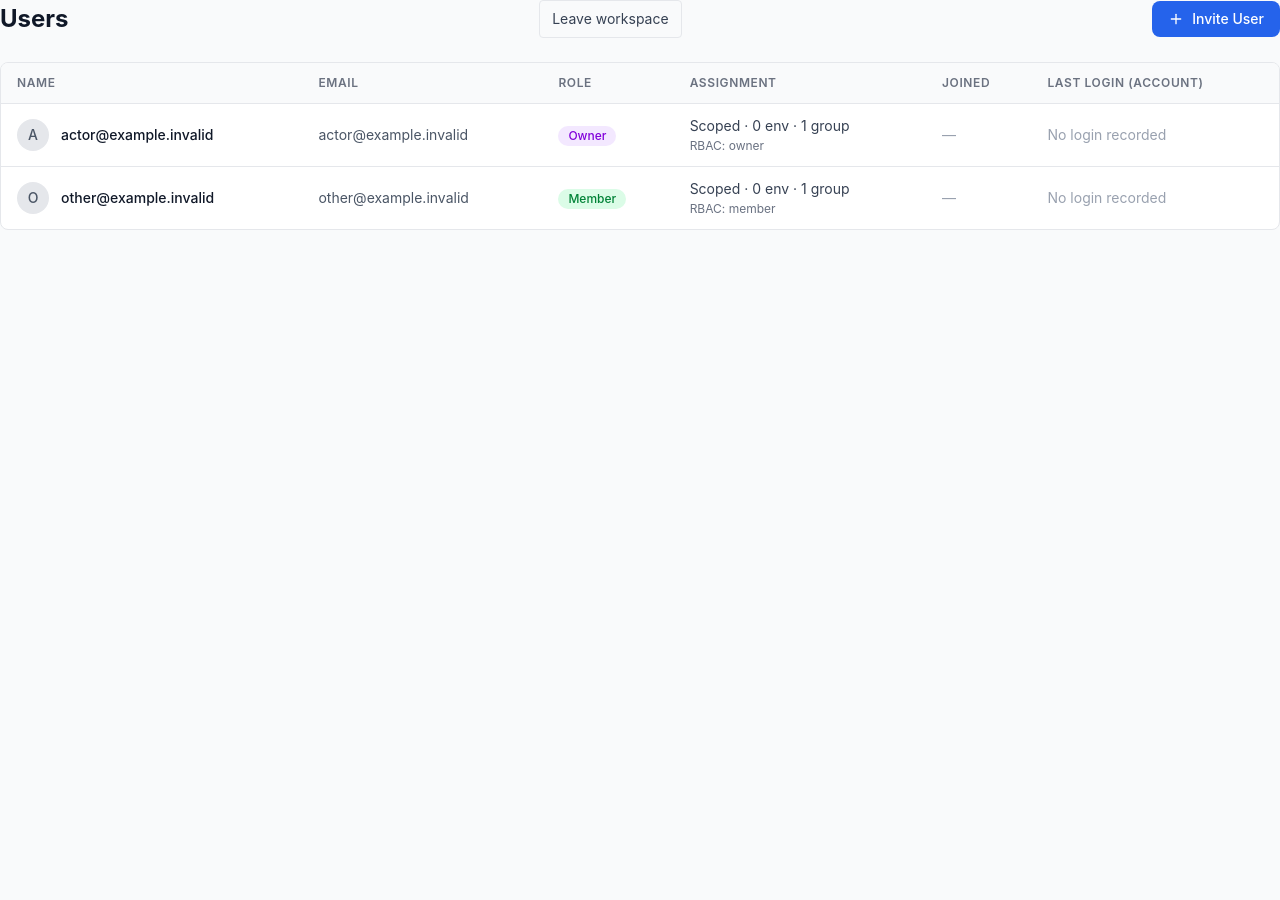
Test: scoped Users controls › allows only manageable subtrees in All groups and derives the role list from the selected group
Later steps or results of the test are not shown.
Click the button "Invite User".
click(1216, 19)  # box left=1152, top=1, right=1279, bottom=37
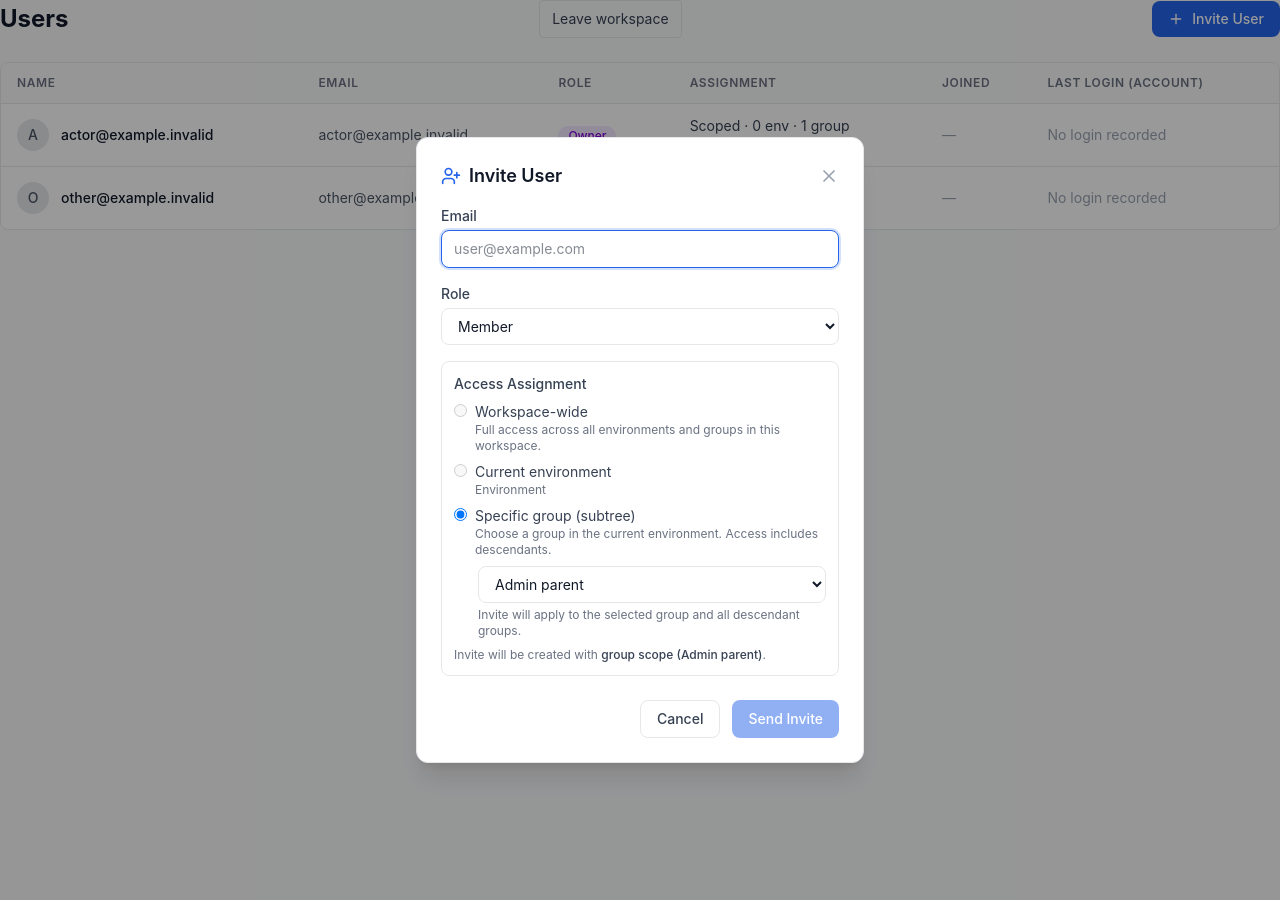
Expected: the radio button labelled "Workspace-wide" is disabled, left=454, top=404, right=467, bottom=417
Expected: the radio button labelled "Current environment Environment" is disabled, left=454, top=464, right=467, bottom=477
Expected: the radio button labelled "Specific group" is checked, left=454, top=508, right=467, bottom=521
